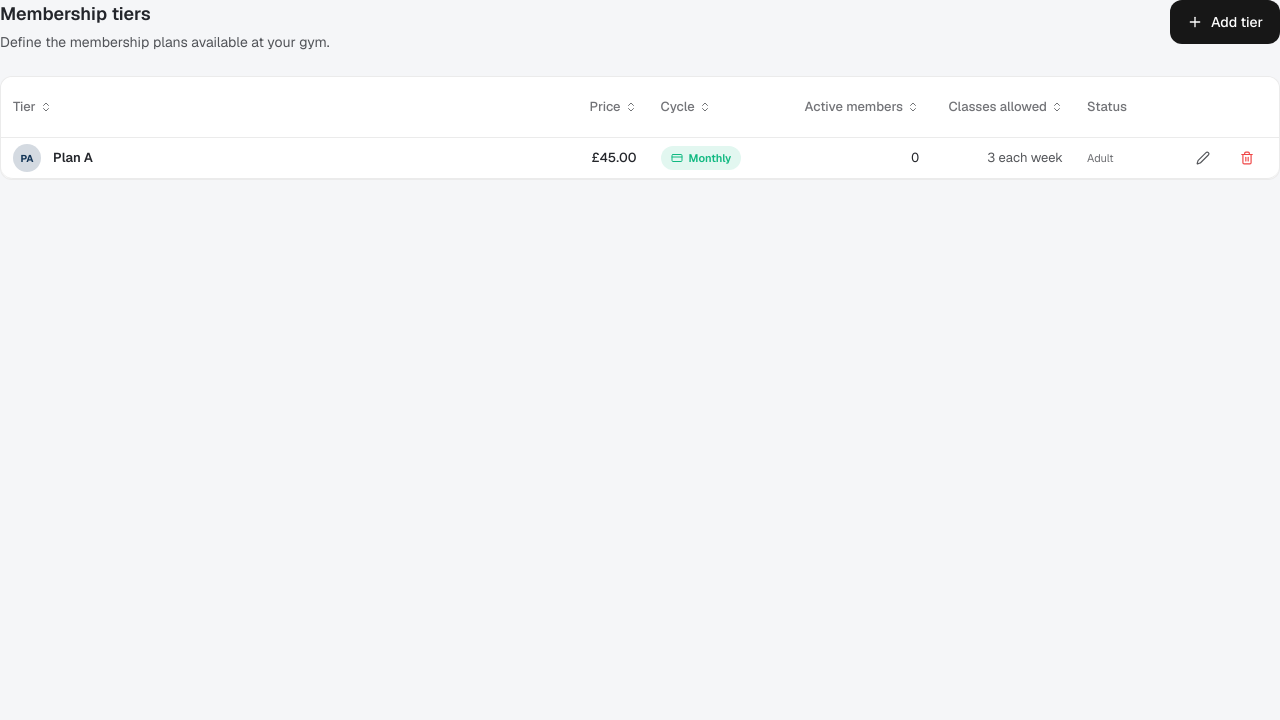
Test: the class allowance in the tier editor › a legacy weekly limit opens as N each week
Click the button named "Edit Plan A": (1203, 158) [1183, 142, 1223, 174]
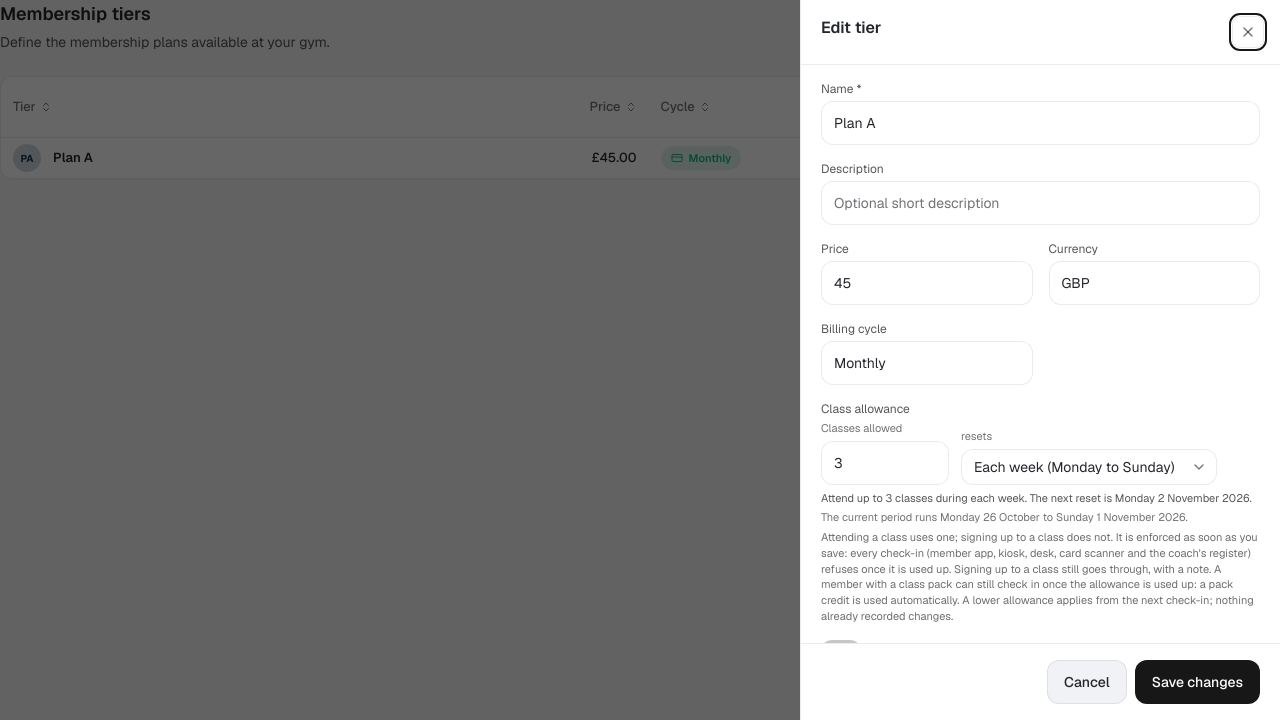
Now the field labelled "Classes allowed" holds "3", box [821, 441, 949, 485]
Now the dropdown labelled "resets" shows "Each week (Monday to Sunday)", box [961, 449, 1217, 485]
